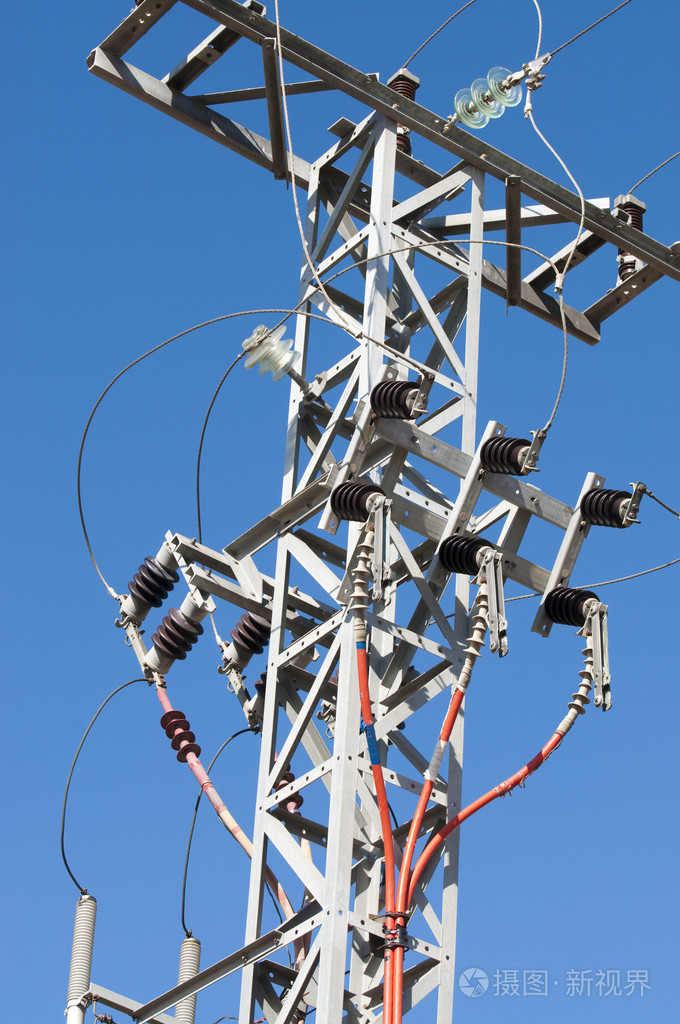insulator: (454, 59, 525, 129), (241, 325, 301, 384), (157, 704, 202, 766)
